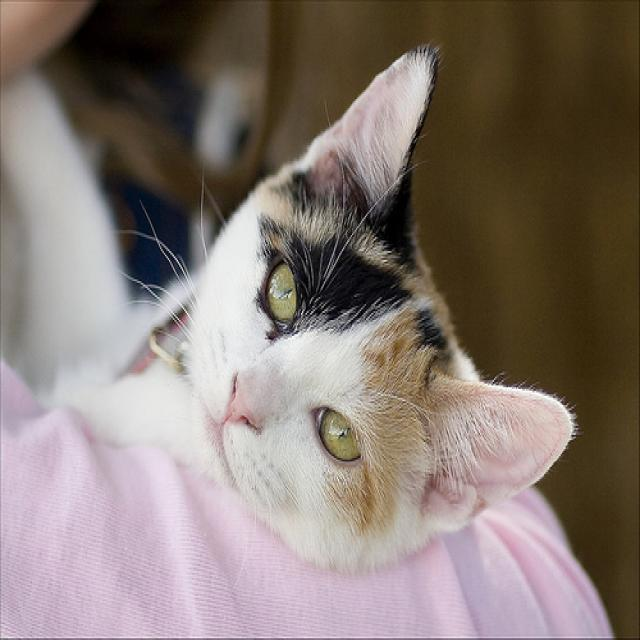cat: (52, 42, 580, 577)
